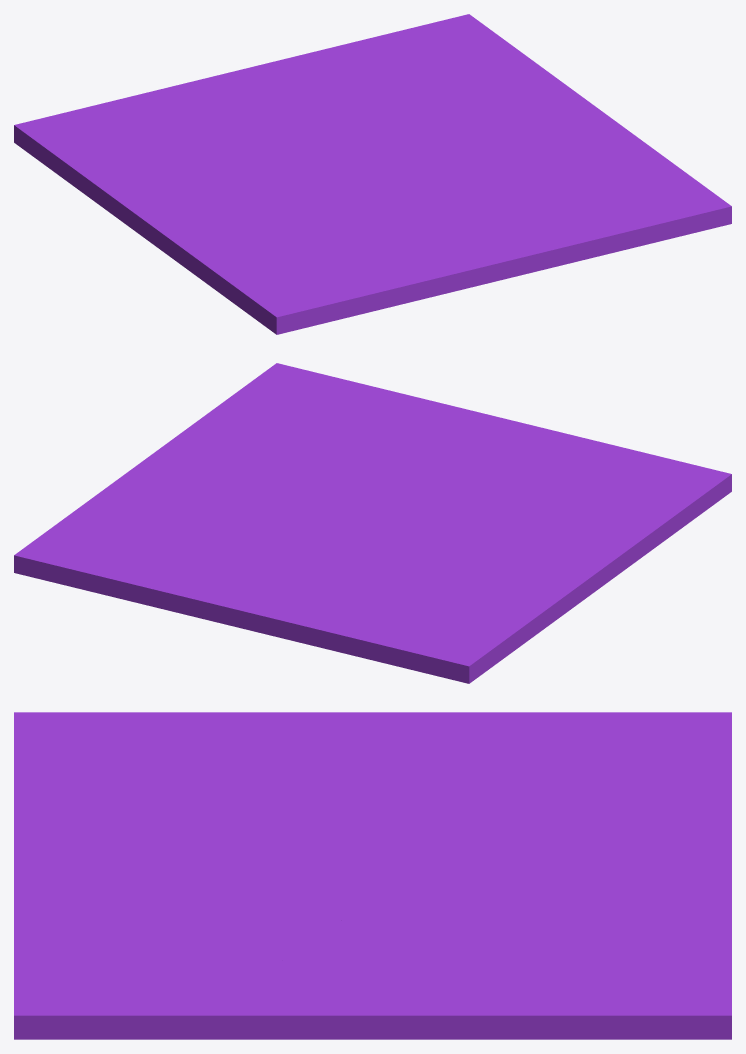
The model's file is Platform_46_chunks.fbx.
The picture shows the model from 3 angles, top to bottom: view 1: azimuth 30°, elevation 25°; view 2: azimuth 150°, elevation 25°; view 3: azimuth 270°, elevation 25°; orthographic projection. The views are drawn at different scales.
Parts seen in each view (by area): view 1: Platform_46_2, Platform_46_10, Platform_46_11, Platform_46_0, Platform_46_1, Platform_46_7, Platform_46_6, Platform_46_8, Platform_46_4, Platform_46_9, Platform_46_5, Platform_46_3 (+1 smaller); view 2: Platform_46_11, Platform_46_10, Platform_46_0, Platform_46_1, Platform_46_2, Platform_46_7, Platform_46_8, Platform_46_6, Platform_46_4, Platform_46_9, Platform_46_5, Platform_46_3 (+1 smaller); view 3: Platform_46_0, Platform_46_7, Platform_46_10, Platform_46_11, Platform_46_8, Platform_46_1, Platform_46_2, Platform_46_6, Platform_46_4, Platform_46_9, Platform_46_5, Platform_46_3 (+1 smaller).
Part boxes in pixels (x1,y1,x2,y2): Platform_46_2: (184, 239, 478, 334); Platform_46_10: (14, 98, 246, 205); Platform_46_11: (126, 34, 388, 129); Platform_46_0: (388, 14, 554, 149); Platform_46_1: (100, 171, 337, 267); Platform_46_7: (512, 126, 731, 238); Platform_46_6: (450, 180, 671, 275); Platform_46_8: (421, 77, 621, 169); Platform_46_4: (329, 168, 520, 285); Platform_46_9: (236, 108, 388, 180); Platform_46_5: (371, 135, 513, 219); Platform_46_3: (250, 216, 470, 270); Platform_46_11: (95, 538, 369, 657); Platform_46_10: (358, 557, 560, 683); Platform_46_0: (14, 492, 331, 599); Platform_46_1: (402, 505, 643, 620); Platform_46_2: (539, 427, 731, 558); Platform_46_7: (167, 363, 357, 461); Platform_46_8: (100, 443, 312, 511); Platform_46_6: (333, 383, 496, 459); Platform_46_4: (379, 417, 536, 524); Platform_46_9: (247, 514, 470, 572); Platform_46_5: (287, 455, 444, 516); Platform_46_3: (498, 426, 586, 522); Platform_46_0: (407, 882, 731, 1039); Platform_46_7: (14, 924, 314, 1039); Platform_46_10: (425, 712, 731, 817); Platform_46_11: (525, 786, 731, 961); Platform_46_8: (265, 908, 496, 1039); Platform_46_1: (250, 712, 481, 842); Platform_46_2: (14, 712, 254, 840); Platform_46_6: (14, 865, 233, 961); Platform_46_4: (14, 808, 381, 868); Platform_46_9: (368, 785, 534, 910); Platform_46_5: (171, 861, 423, 930); Platform_46_3: (14, 752, 262, 841).
Size of the model in its own units: 810 by 29.87 by 810.
